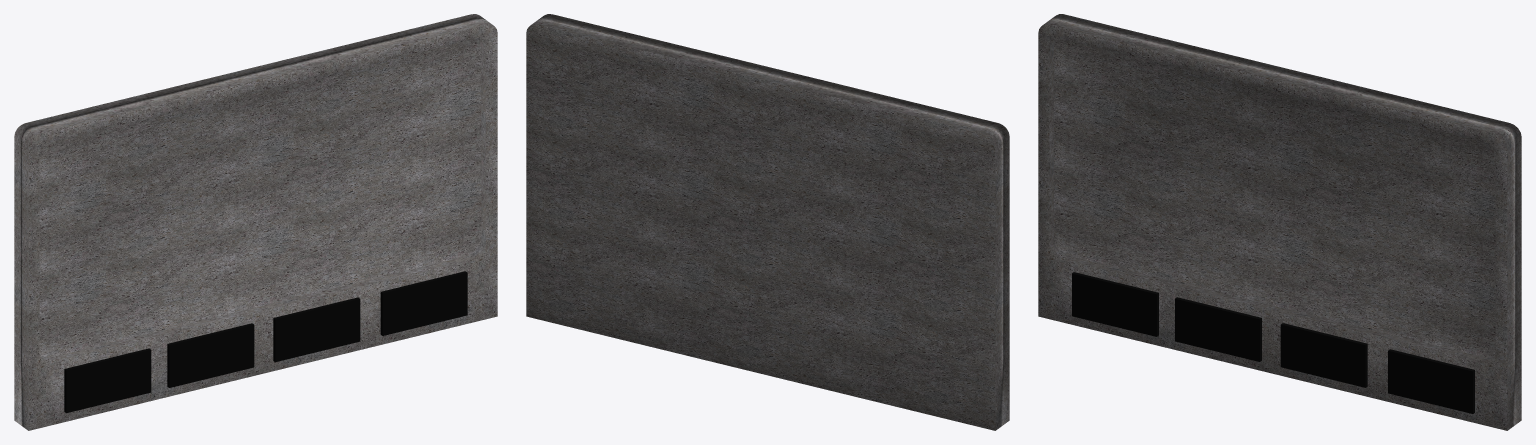
File: puzzle.glb
The picture shows the model from 3 angles, left to right: view 1: azimuth 30°, elevation 25°; view 2: azimuth 150°, elevation 25°; view 3: azimuth 330°, elevation 25°; orthographic projection.
Parts seen in each view (by area): view 1: Cube.003; view 2: Cube.003; view 3: Cube.003.
Part boxes in pixels (x1,y1,x2,y2): Cube.003: (14,14,497,430); Cube.003: (526,14,1009,430); Cube.003: (1038,14,1521,430).
Size of the model in its own units: 5 by 3 by 0.3032.
Materials: 2 (1 with a texture image).
